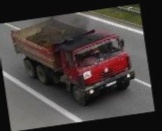truck: (9, 8, 139, 114)
